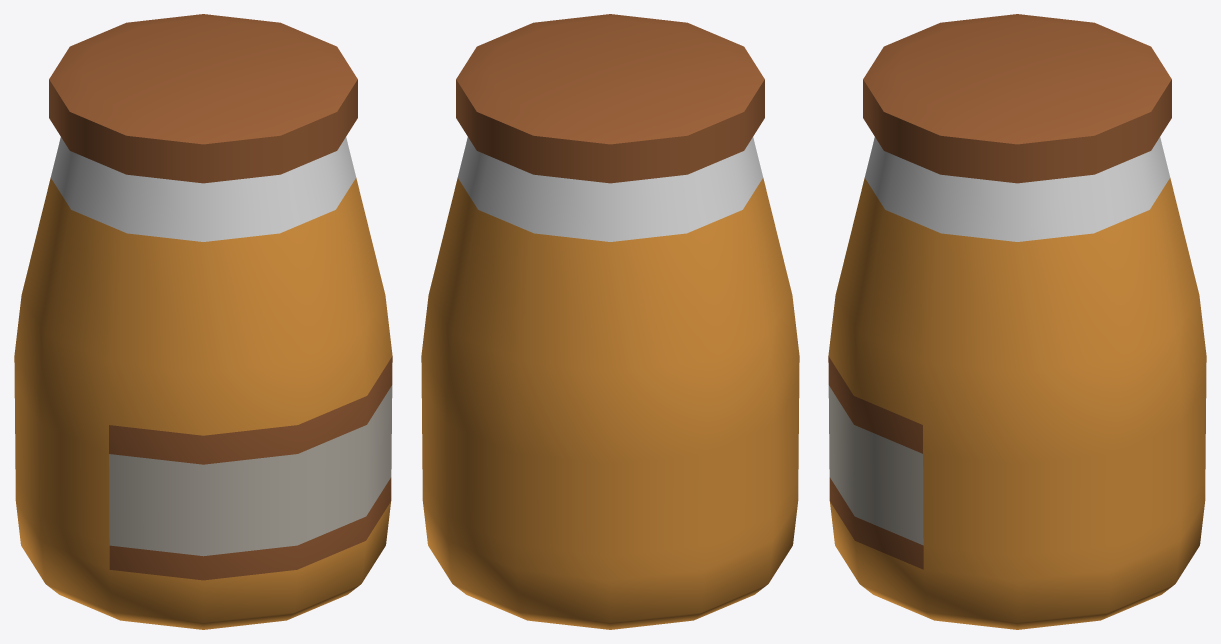
Rendered from Honey_01.fbx.
The picture shows the model from 3 angles, left to right: view 1: azimuth 30°, elevation 25°; view 2: azimuth 150°, elevation 25°; view 3: azimuth 270°, elevation 25°; orthographic projection.
Parts seen in each view (by area): view 1: Honey_01; view 2: Honey_01; view 3: Honey_01.
Part boxes in pixels (bbox=[...]): Honey_01: bbox=[14, 14, 392, 629]; Honey_01: bbox=[421, 14, 799, 629]; Honey_01: bbox=[828, 14, 1206, 629].
Bounding box in the file's own units: 0.1023 × 0.1458 × 0.1023.
